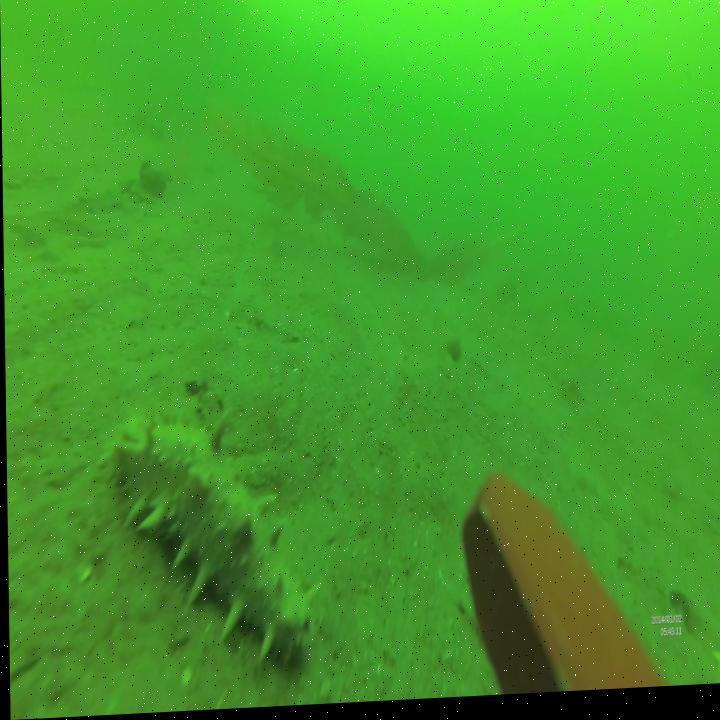echinus: (138, 158, 165, 199)
holothurian: (110, 405, 312, 680)
